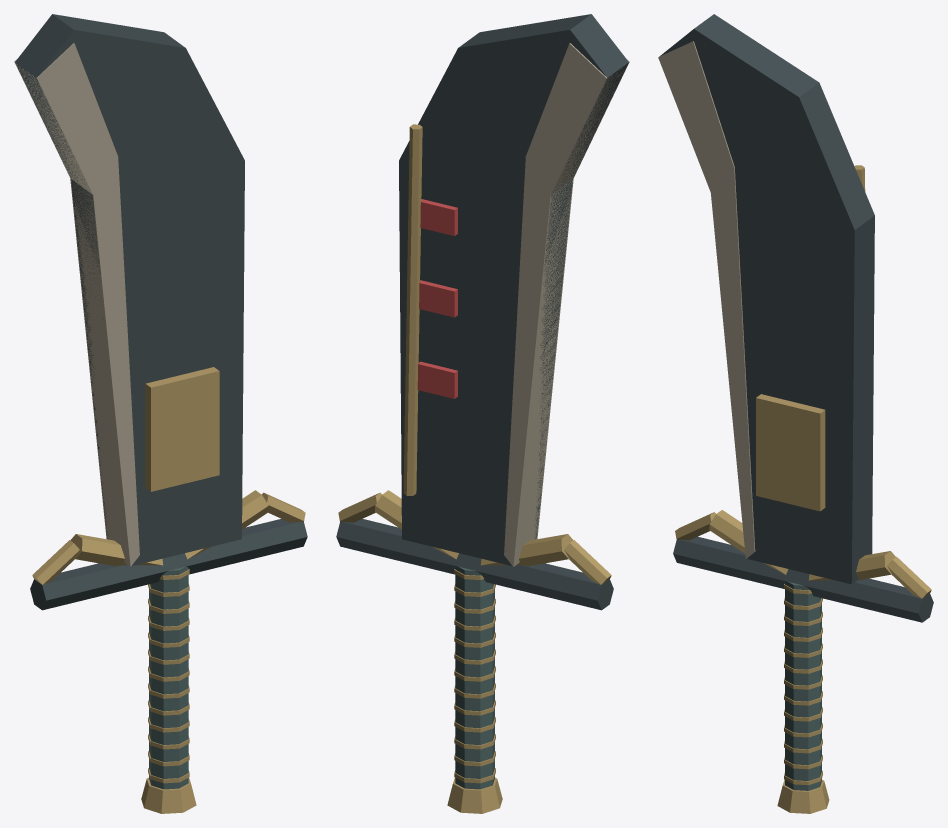
File: Arsenal_CrimsonTide.fbx
The picture shows the model from 3 angles, left to right: view 1: azimuth 30°, elevation 25°; view 2: azimuth 150°, elevation 25°; view 3: azimuth 330°, elevation 25°; orthographic projection. The views are drawn at different scales.
Parts seen in each view (by area): view 1: Arsenal_CrimsonTide; view 2: Arsenal_CrimsonTide; view 3: Arsenal_CrimsonTide.
Boxes of the visible parts, left/top/right/bottom form: Arsenal_CrimsonTide: left=14, top=14, right=307, bottom=813; Arsenal_CrimsonTide: left=336, top=14, right=629, bottom=813; Arsenal_CrimsonTide: left=658, top=14, right=933, bottom=813.
Bounding box in the file's own units: 0.892 × 2.47 × 0.194.
